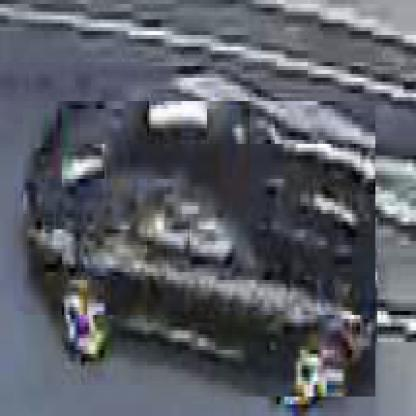car: (23, 102, 377, 402)
